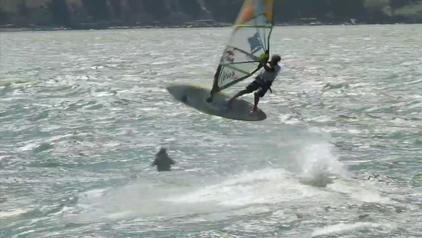down: (237, 57, 281, 107)
walk: (237, 57, 281, 107)
